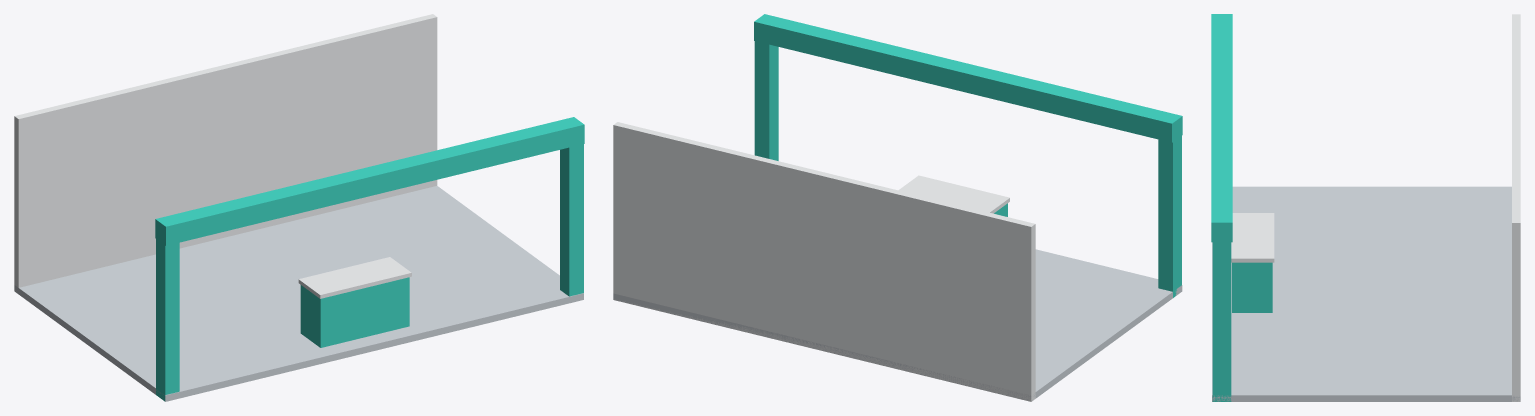
The picture shows the model from 3 angles, left to right: view 1: azimuth 30°, elevation 25°; view 2: azimuth 150°, elevation 25°; view 3: azimuth 270°, elevation 25°; orthographic projection. The views are drawn at different scales.
Parts seen in each view (by area): view 1: Exhibition Booth Concept; view 2: Exhibition Booth Concept; view 3: Exhibition Booth Concept.
Boxes of the visible parts, x1,y1,x2,y2 form: Exhibition Booth Concept: (14,14,584,401); Exhibition Booth Concept: (613,14,1182,401); Exhibition Booth Concept: (1211,14,1520,401).
Size of the model in its own units: 8 by 3.2 by 5.02.
